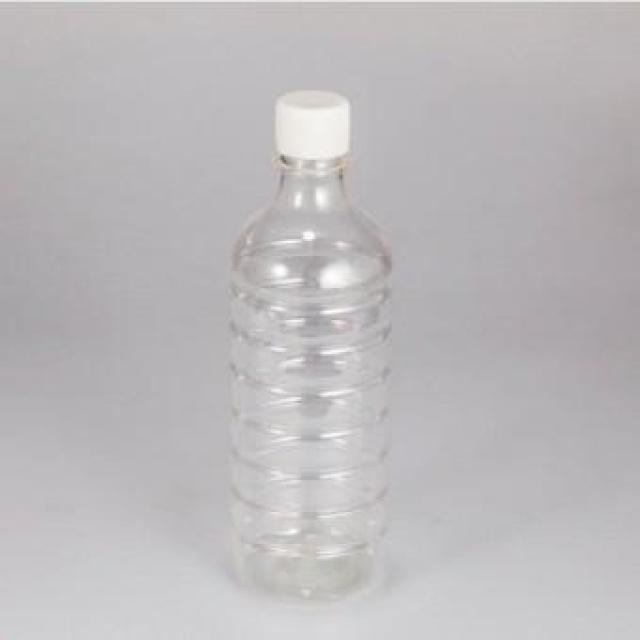bottle: (224, 89, 399, 600)
